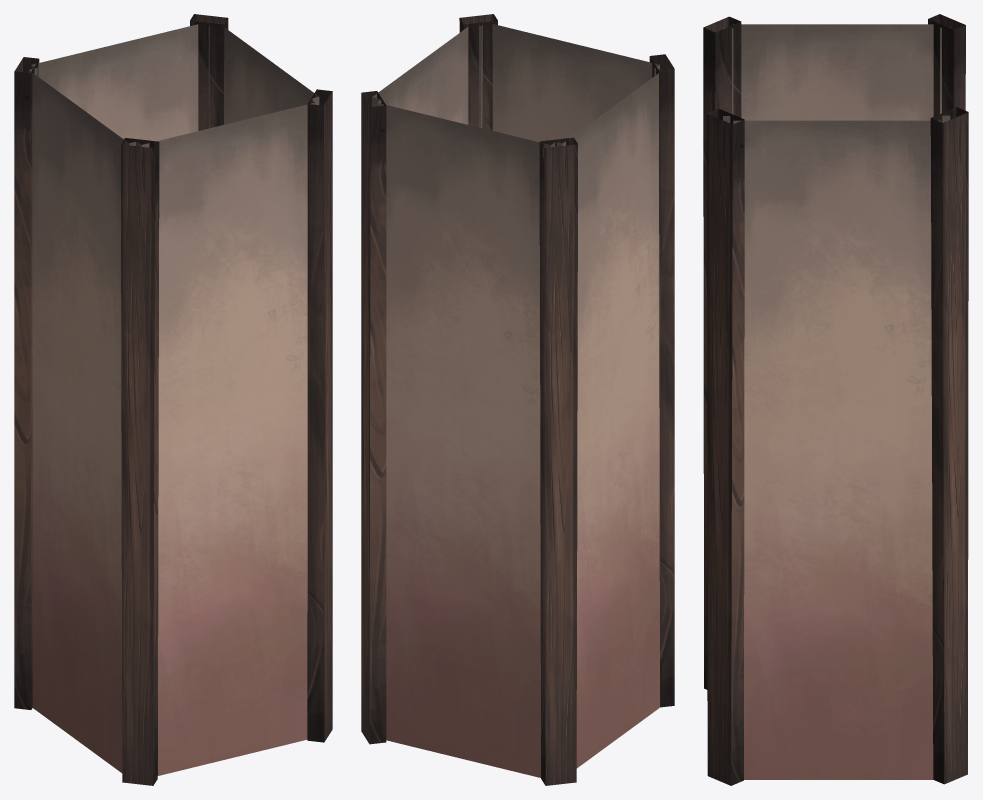
Rendered from Wall_Mid_Half_Pillar_LOD1.fbx.
3 views of the same model, side by side, from view 1: azimuth 30°, elevation 25°; view 2: azimuth 150°, elevation 25°; view 3: azimuth 270°, elevation 25° (orthographic). The views are drawn at different scales.
Visible parts, largest first — view 1: Mid_HalfPillar_LOD1; view 2: Mid_HalfPillar_LOD1; view 3: Mid_HalfPillar_LOD1.
Boxes of the visible parts, x1=… form: Mid_HalfPillar_LOD1: x1=14, y1=14, x2=332, y2=785; Mid_HalfPillar_LOD1: x1=361, y1=14, x2=674, y2=785; Mid_HalfPillar_LOD1: x1=703, y1=14, x2=968, y2=785.
Size of the model in its own units: 0.0151 by 0.0422 by 0.0153.
